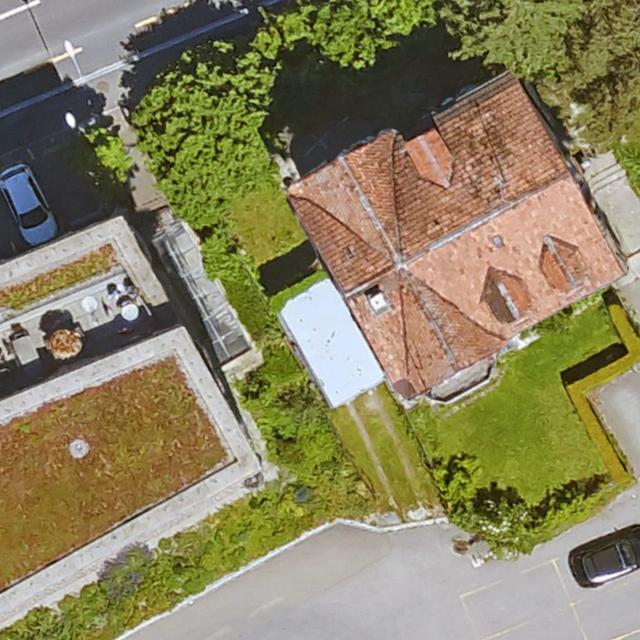tree: (138, 54, 284, 206), (443, 0, 640, 103), (252, 0, 423, 67), (74, 125, 128, 210)
